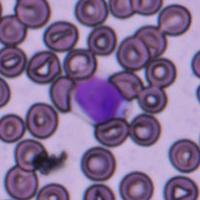L: (70, 74, 130, 125)
